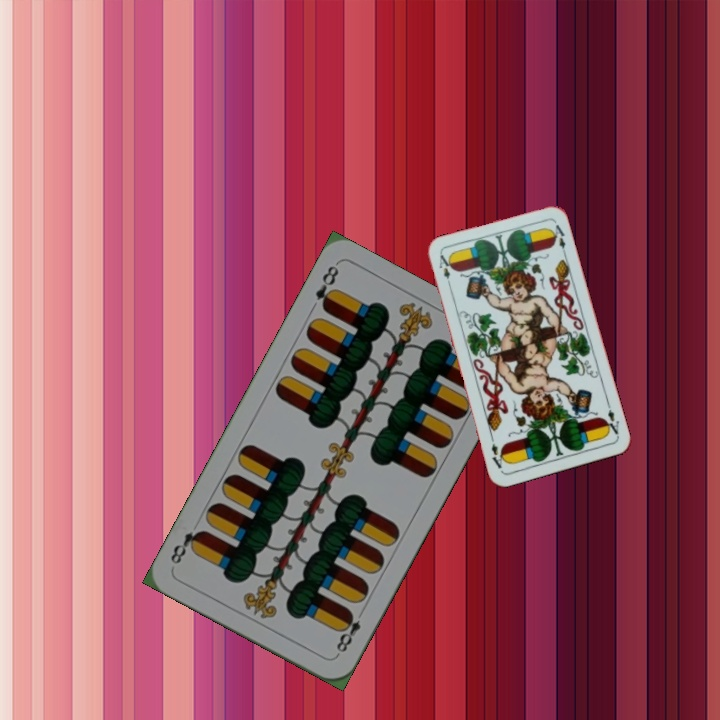E8: (332, 606, 368, 659), (311, 261, 342, 314)
EA: (601, 399, 622, 439), (435, 250, 454, 291)
